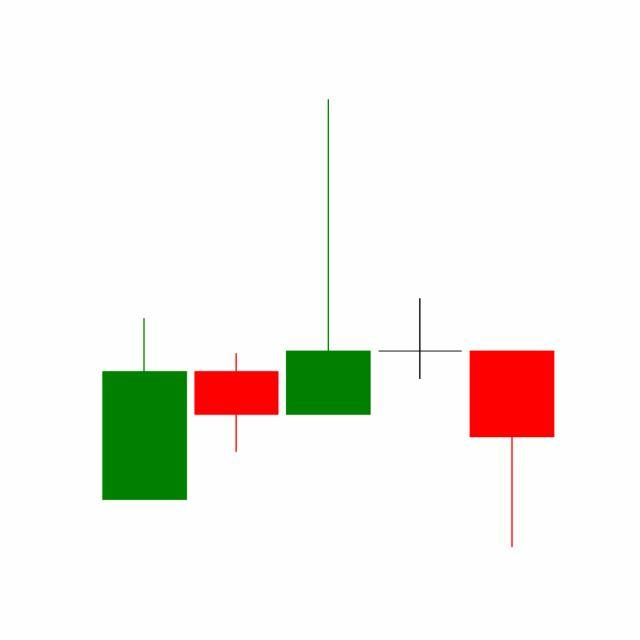Hammer: (466, 349, 559, 550)
